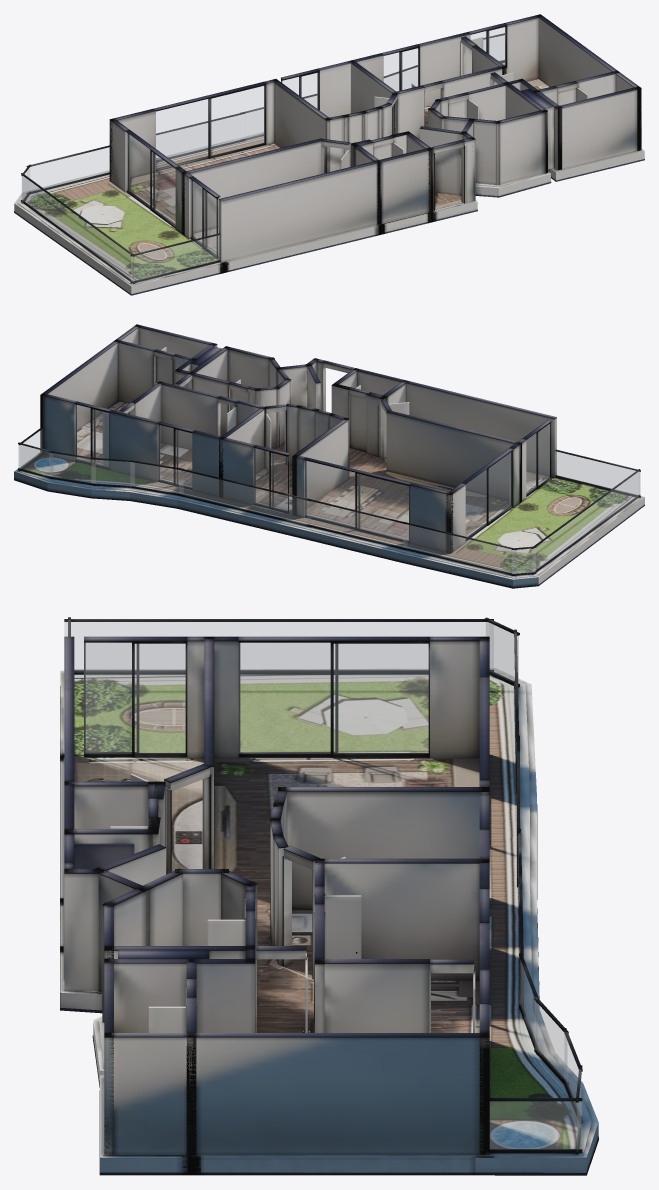
3 renders of one model, top to bottom at view 1: azimuth 30°, elevation 25°; view 2: azimuth 150°, elevation 25°; view 3: azimuth 270°, elevation 25°, orthographic. The views are drawn at different scales.
Visible parts, largest first — view 1: plan, glass2_m, railg3_m, glass0_m, railg1_m, railg0_m, railg9_m, glass1_m, glass4_m, glass5_m, glass3_m, railg8_m (+1 smaller); view 2: plan, glass2_m, railg8_m, railg9_m, railg3_m, railg0_m, glass0_m, railg1_m, glass3_m, glass5_m, glass4_m, railg7_m (+6 smaller); view 3: plan, glass0_m, railg3_m, glass1_m, railg2_m, railg6_m, railg10_m, railg7_m.
Boxes of the visible parts, bbox=[...] form: plan: bbox=[14, 14, 644, 295]; glass2_m: bbox=[156, 86, 264, 168]; railg3_m: bbox=[22, 176, 134, 281]; glass0_m: bbox=[127, 133, 175, 224]; railg1_m: bbox=[131, 235, 219, 281]; railg0_m: bbox=[156, 114, 244, 157]; railg9_m: bbox=[27, 147, 109, 191]; glass1_m: bbox=[191, 180, 218, 254]; glass4_m: bbox=[384, 48, 418, 91]; glass5_m: bbox=[471, 27, 505, 64]; glass3_m: bbox=[282, 73, 317, 108]; railg8_m: bbox=[246, 96, 316, 137]; plan: bbox=[14, 324, 644, 588]; glass2_m: bbox=[305, 461, 408, 540]; railg8_m: bbox=[179, 470, 310, 524]; railg9_m: bbox=[403, 524, 515, 573]; railg3_m: bbox=[532, 472, 639, 572]; railg0_m: bbox=[308, 501, 406, 548]; glass0_m: bbox=[466, 452, 510, 536]; railg1_m: bbox=[556, 451, 640, 495]; glass3_m: bbox=[254, 448, 287, 510]; glass5_m: bbox=[76, 405, 108, 466]; glass4_m: bbox=[158, 425, 191, 487]; railg7_m: bbox=[130, 462, 182, 493]; plan: bbox=[60, 617, 598, 1175]; glass0_m: bbox=[239, 643, 428, 753]; railg3_m: bbox=[64, 622, 493, 670]; glass1_m: bbox=[84, 643, 185, 753]; railg2_m: bbox=[490, 1101, 581, 1149]; railg6_m: bbox=[535, 1001, 566, 1081]; railg10_m: bbox=[486, 622, 518, 683]; railg7_m: bbox=[520, 960, 538, 1050].
Bounding box in the file's own units: 20.2 × 2.62 × 9.39.
Materials: 2 (1 with a texture image).
